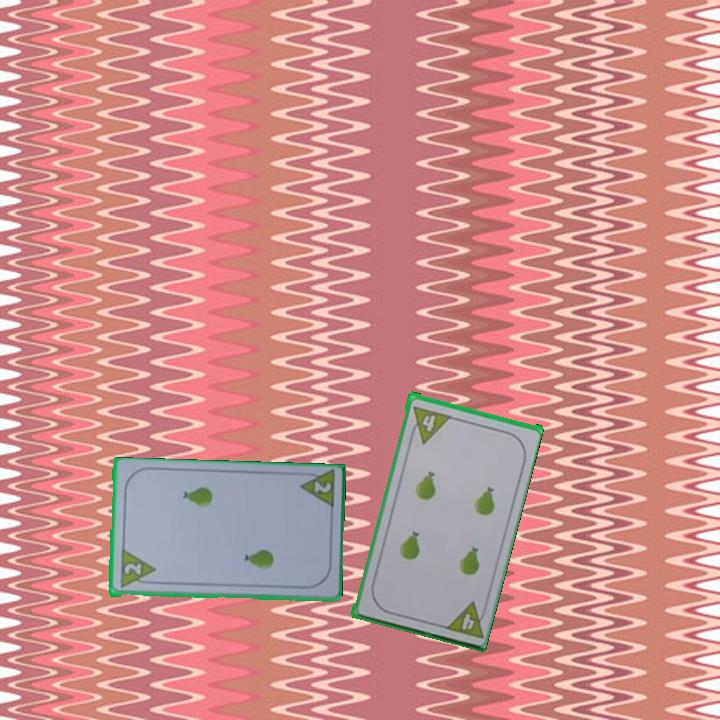2p: (116, 548, 158, 592), (296, 468, 337, 513)
4p: (418, 409, 452, 445), (458, 609, 477, 632)
